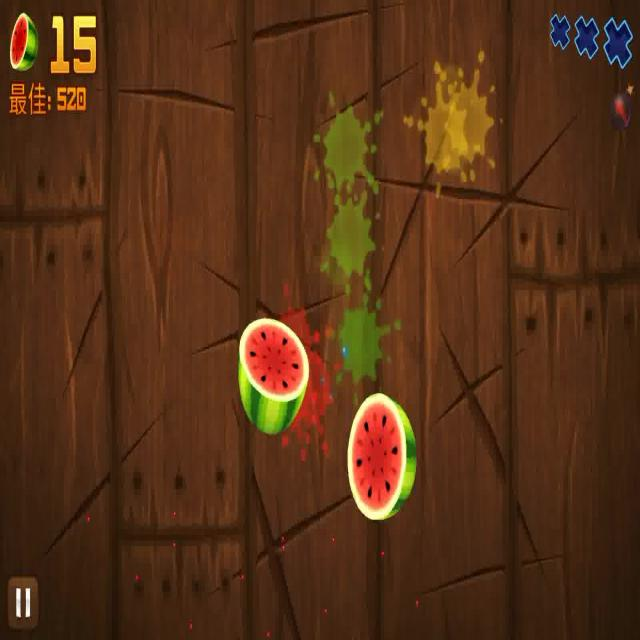fruit: (344, 391, 421, 522), (233, 315, 307, 429)
